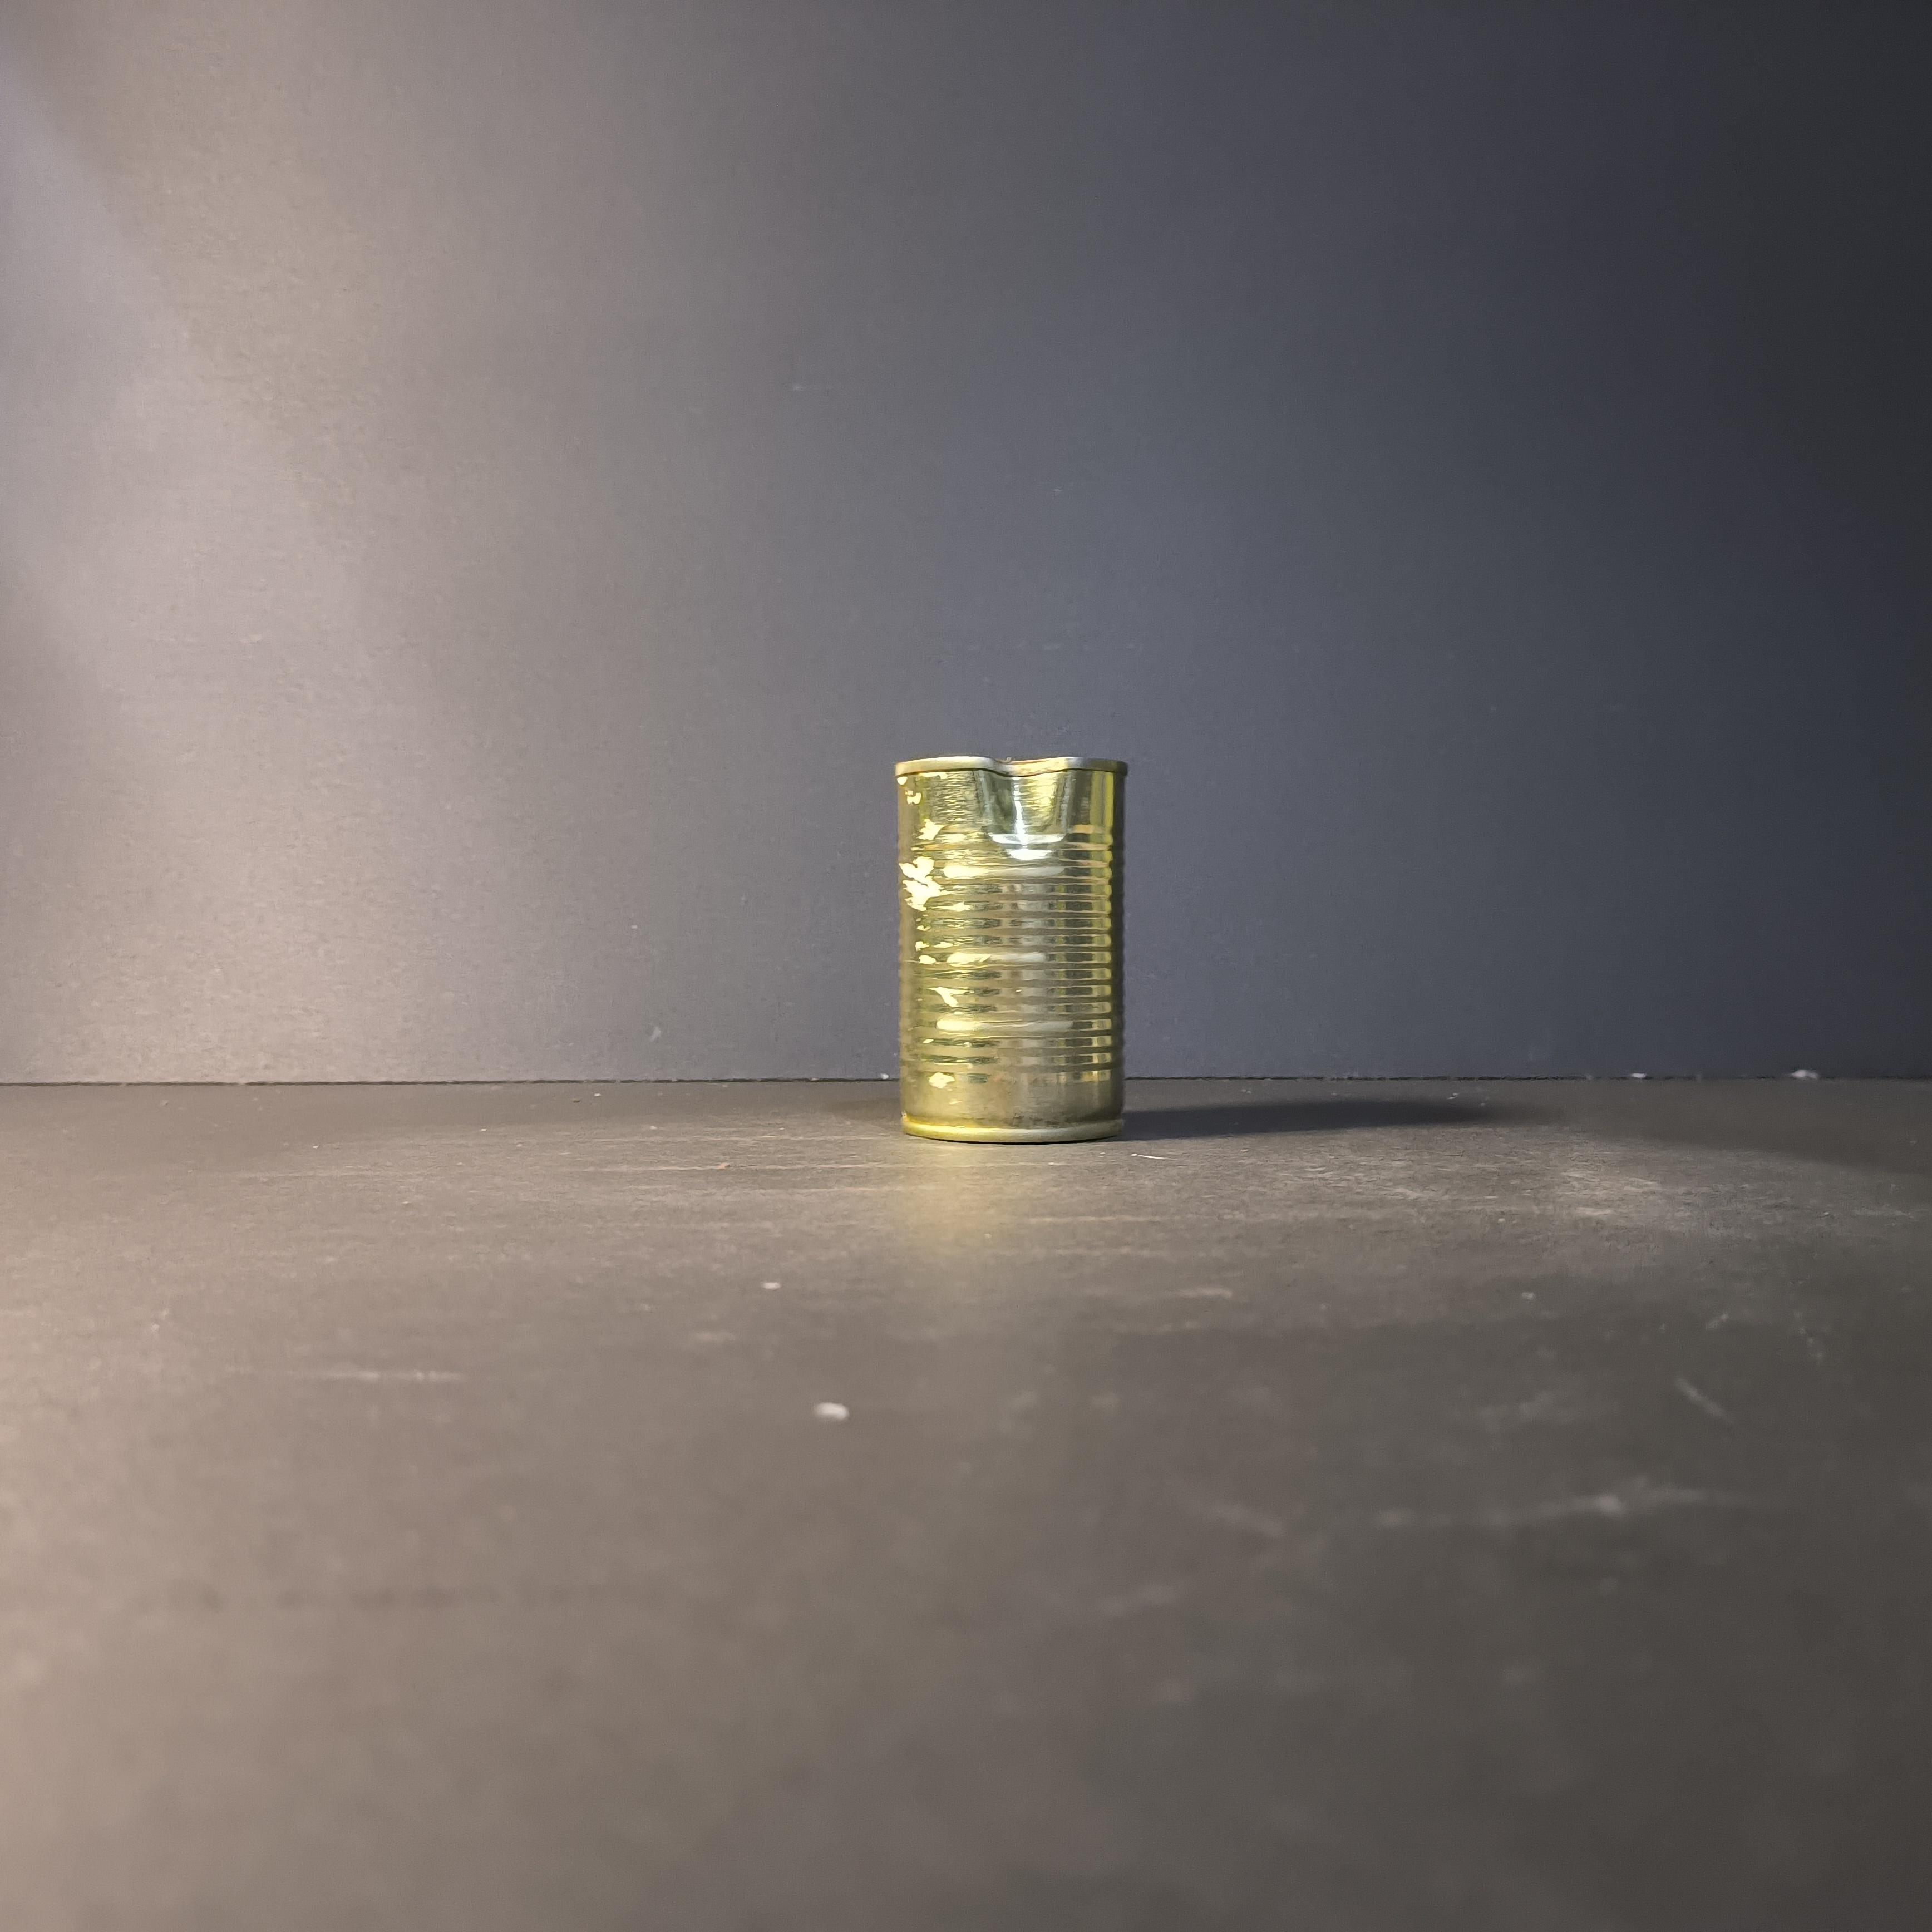Dented: (879, 718, 1152, 1185)
